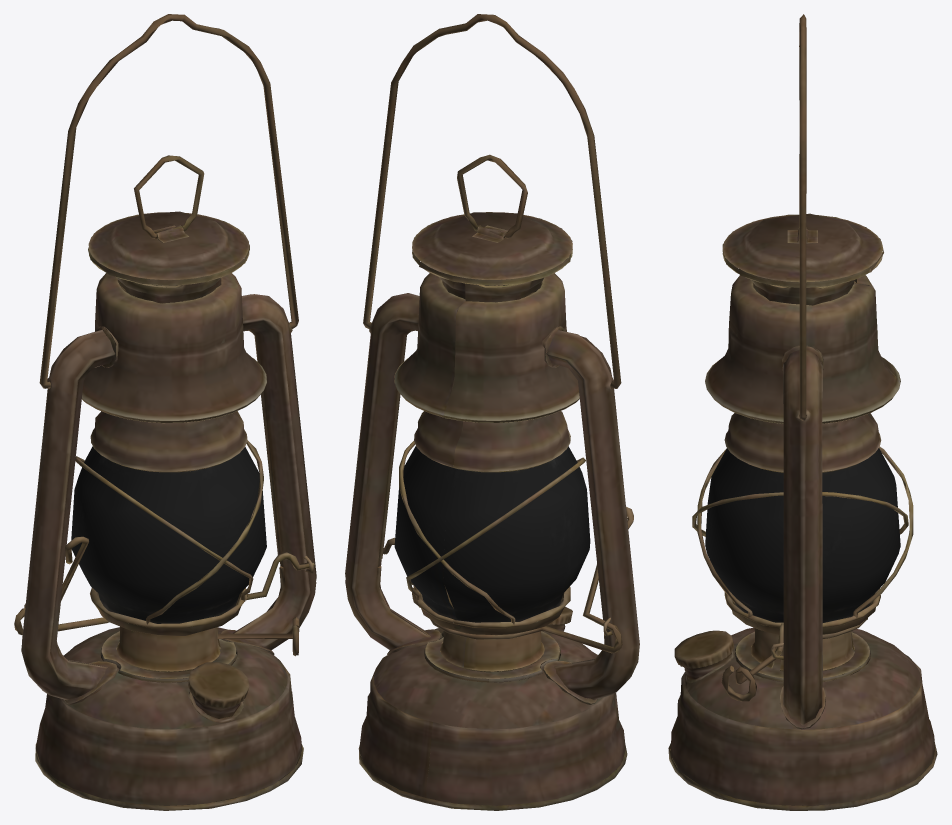
Rendered from lantern.glb.
3 views of the same model, side by side, from view 1: azimuth 30°, elevation 25°; view 2: azimuth 150°, elevation 25°; view 3: azimuth 270°, elevation 25° (orthographic).
Parts seen in each view (by area): view 1: Lantern_01; view 2: Lantern_01; view 3: Lantern_01.
Part boxes in pixels (bbox=[...]): Lantern_01: bbox=[14, 14, 316, 810]; Lantern_01: bbox=[345, 14, 639, 810]; Lantern_01: bbox=[668, 14, 937, 810].
Size of the model in its own units: 0.1223 by 0.2943 by 0.0973.
2 materials, 2 textured.
